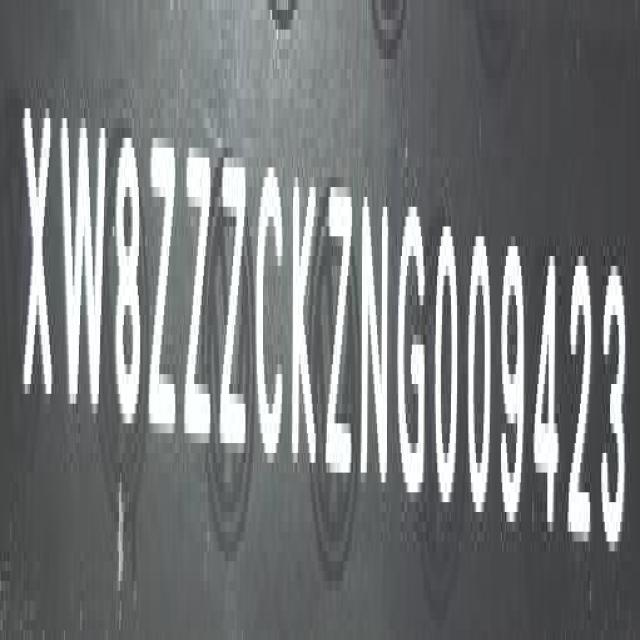0: (433, 207, 459, 516), (464, 214, 489, 529)
2: (568, 249, 595, 556)
3: (602, 257, 631, 558)
4: (536, 241, 564, 546)
8: (116, 121, 143, 444)
9: (500, 226, 528, 537)
C: (256, 156, 286, 470)
G: (397, 195, 430, 509)
K: (293, 164, 320, 481)
N: (359, 166, 391, 494)
W: (61, 98, 107, 436)
X: (20, 87, 54, 424)
Z: (323, 161, 352, 490), (148, 121, 176, 448), (185, 126, 212, 458), (220, 158, 247, 470)
